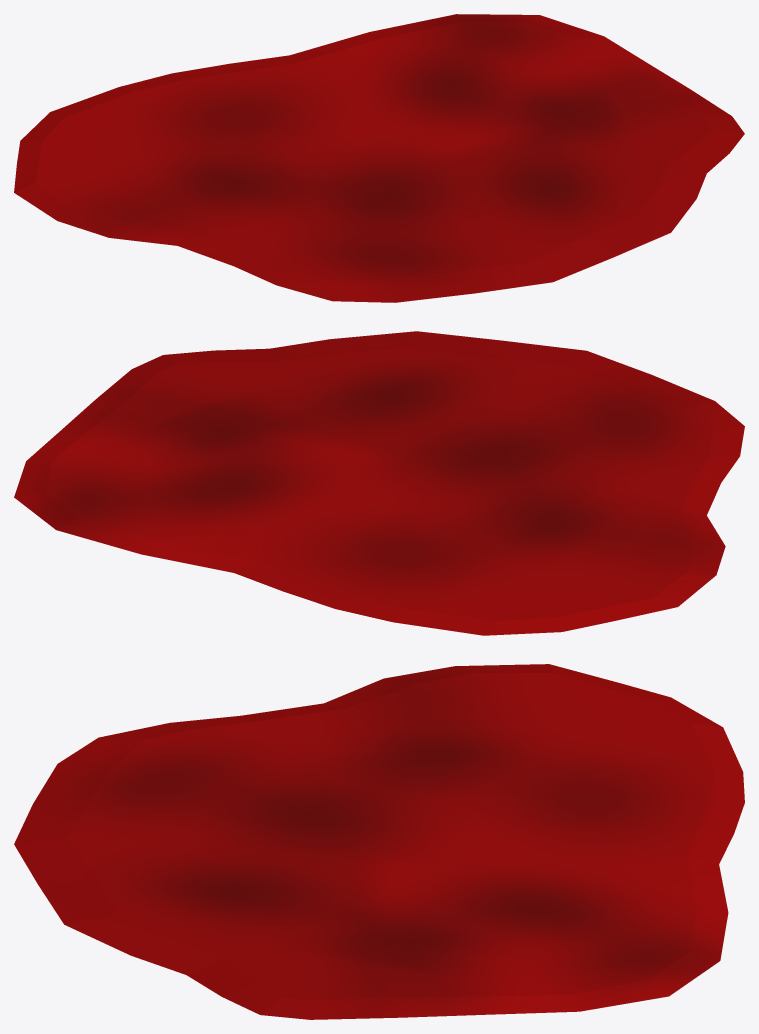
3 renders of one model, top to bottom at view 1: azimuth 30°, elevation 25°; view 2: azimuth 150°, elevation 25°; view 3: azimuth 270°, elevation 25°, orthographic. The views are drawn at different scales.
Visible parts, largest first — view 1: 平面; view 2: 平面; view 3: 平面.
Boxes of the visible parts, x1,y1,x2,y2 form: 平面: (14,14,744,302); 平面: (14,331,744,635); 平面: (14,664,744,1019).
Size of the model in its own units: 295 by 256 by 1.74.
Materials: 1 (1 with a texture image).
